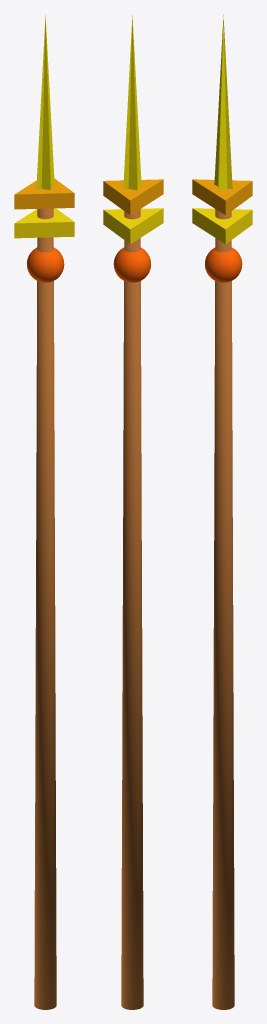
File: Madness Spear.fbx
3 renders of one model, left to right at view 1: azimuth 30°, elevation 25°; view 2: azimuth 210°, elevation 25°; view 3: azimuth 330°, elevation 25°, orthographic.
Parts seen in each view (by area): view 1: Spear, Blade, Blade Base 1, Blade Base 2, Blade Base 3; view 2: Spear, Blade, Blade Base 1, Blade Base 2, Blade Base 3; view 3: Spear, Blade, Blade Base 1, Blade Base 2, Blade Base 3.
Part boxes in pixels (x1=…): Spear: x1=34, y1=208, x2=56, y2=1009; Blade: x1=36, y1=15, x2=54, y2=190; Blade Base 1: x1=14, y1=178, x2=74, y2=209; Blade Base 2: x1=14, y1=208, x2=74, y2=238; Blade Base 3: x1=27, y1=247, x2=64, y2=282; Spear: x1=121, y1=209, x2=143, y2=1009; Blade: x1=123, y1=15, x2=141, y2=190; Blade Base 1: x1=103, y1=179, x2=163, y2=215; Blade Base 2: x1=103, y1=208, x2=163, y2=244; Blade Base 3: x1=113, y1=247, x2=150, y2=282; Spear: x1=212, y1=209, x2=234, y2=1009; Blade: x1=214, y1=15, x2=232, y2=190; Blade Base 1: x1=192, y1=179, x2=252, y2=215; Blade Base 2: x1=192, y1=208, x2=252, y2=244; Blade Base 3: x1=205, y1=247, x2=242, y2=282.
Bounding box in the file's own units: 9.8 × 196 × 9.66.
